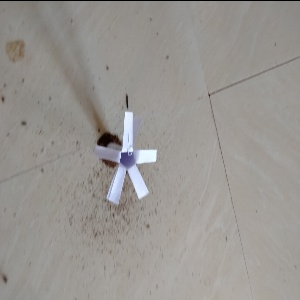weed: (87, 113, 164, 203)
